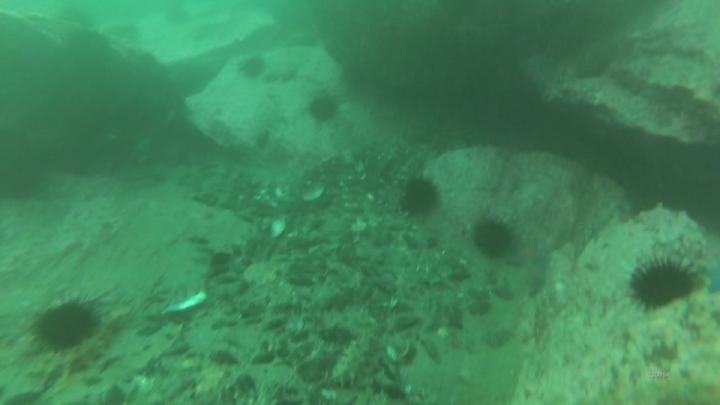echinus: (35, 305, 102, 351), (635, 263, 695, 309), (405, 179, 439, 217), (477, 225, 514, 258), (310, 99, 338, 122), (244, 60, 264, 78)
holothurian: (335, 327, 373, 389)
